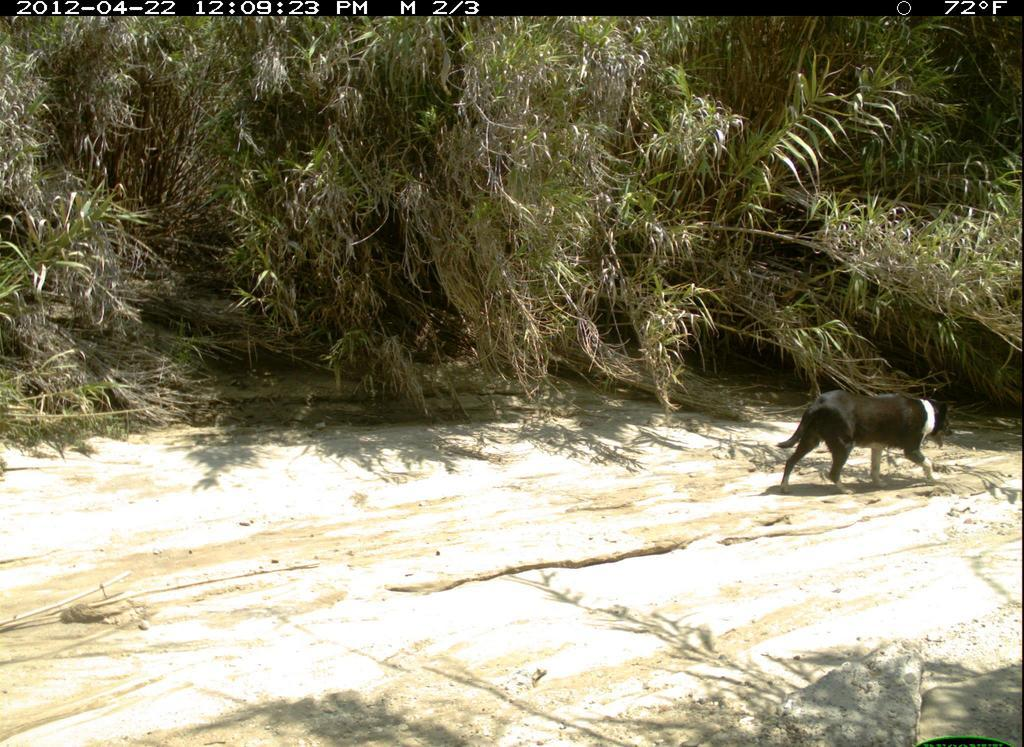dog: (776, 387, 961, 497)
